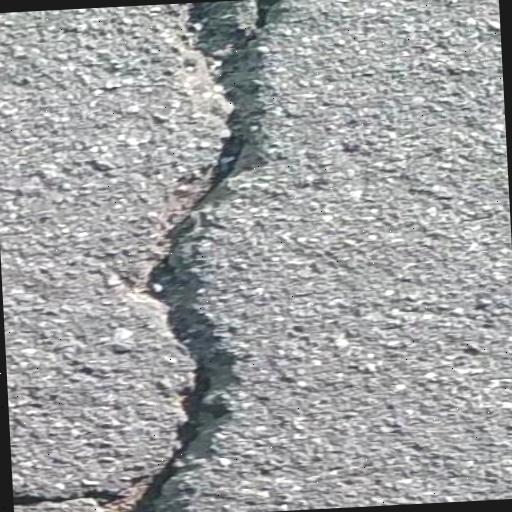spalling: (108, 0, 288, 512)
